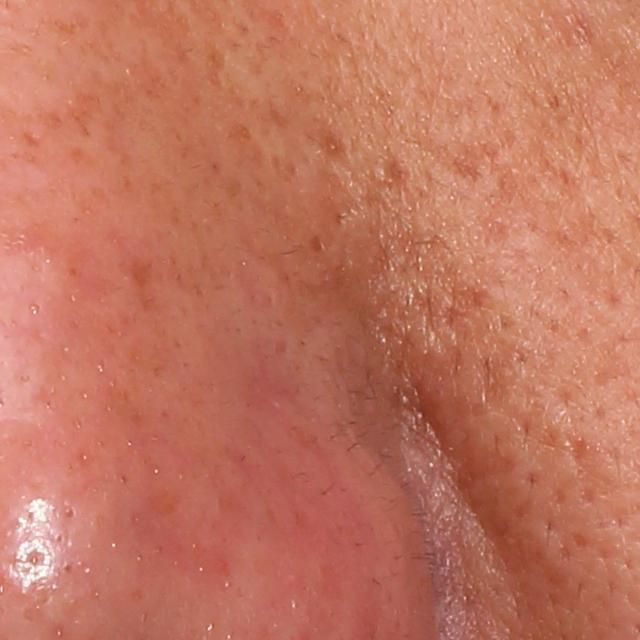melasma: (115, 243, 162, 307), (310, 116, 353, 166), (59, 92, 102, 141), (202, 37, 228, 85)
